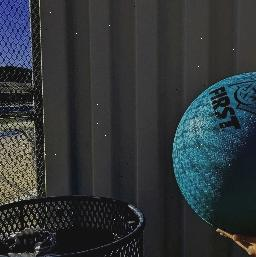algae: (170, 65, 256, 236)
